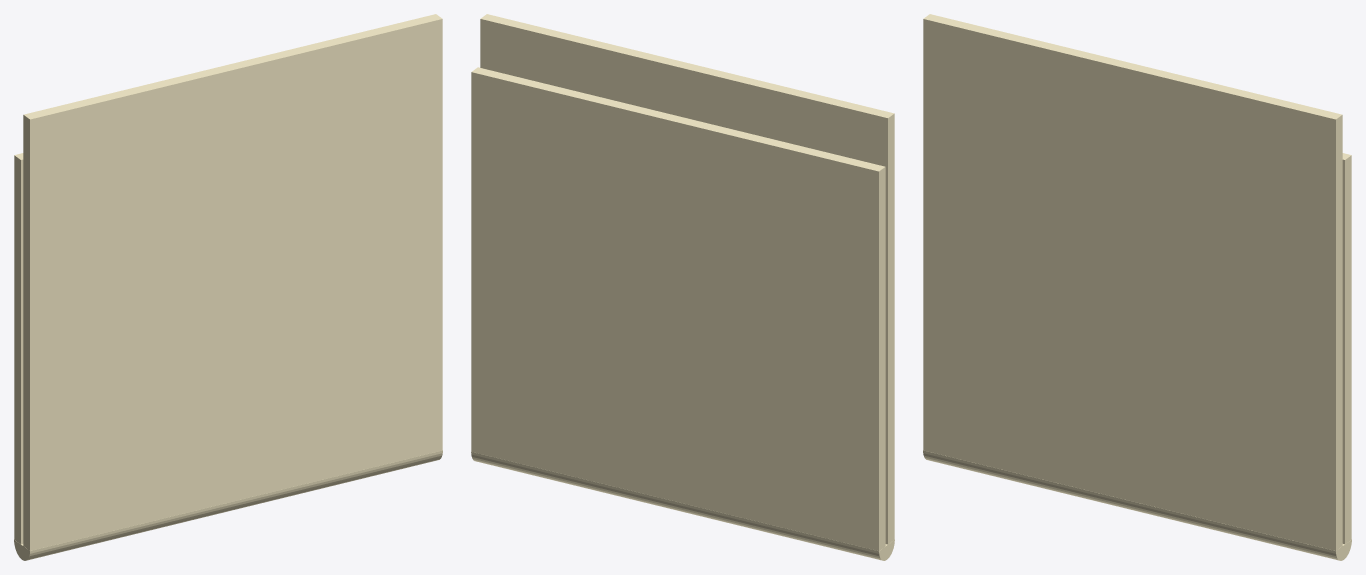
File: Newspaper.fbx
3 renders of one model, left to right at view 1: azimuth 30°, elevation 25°; view 2: azimuth 150°, elevation 25°; view 3: azimuth 330°, elevation 25°, orthographic.
Parts seen in each view (by area): view 1: Cube.013, Cylinder.002, Cube.014; view 2: Cube.014, Cube.013, Cylinder.002; view 3: Cube.013, Cylinder.002, Cube.014.
Part boxes in pixels (left/top/right/bottom): Cube.013: left=23, top=14, right=442, bottom=550; Cylinder.002: left=14, top=450, right=442, bottom=560; Cube.014: left=14, top=153, right=23, bottom=544; Cube.014: left=471, top=67, right=885, bottom=550; Cube.013: left=480, top=14, right=894, bottom=544; Cylinder.002: left=471, top=451, right=894, bottom=560; Cube.013: left=923, top=14, right=1342, bottom=550; Cylinder.002: left=923, top=450, right=1351, bottom=560; Cube.014: left=1342, top=153, right=1351, bottom=544.
Bounding box in the file's own units: 200 × 207 × 13.46.
